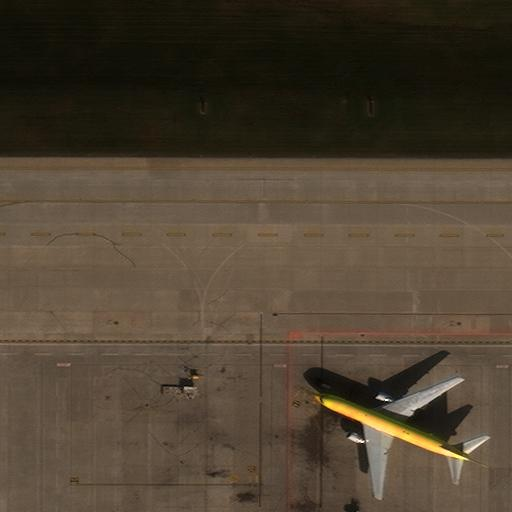Large Civil Transport: (314, 375, 469, 499)
